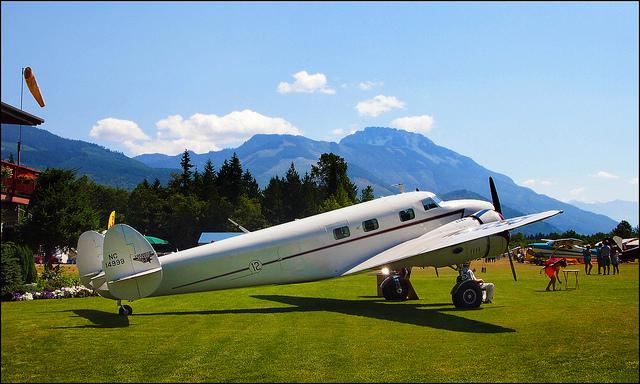Airplane: (78, 175, 566, 319), (526, 237, 599, 265), (595, 238, 640, 248)
